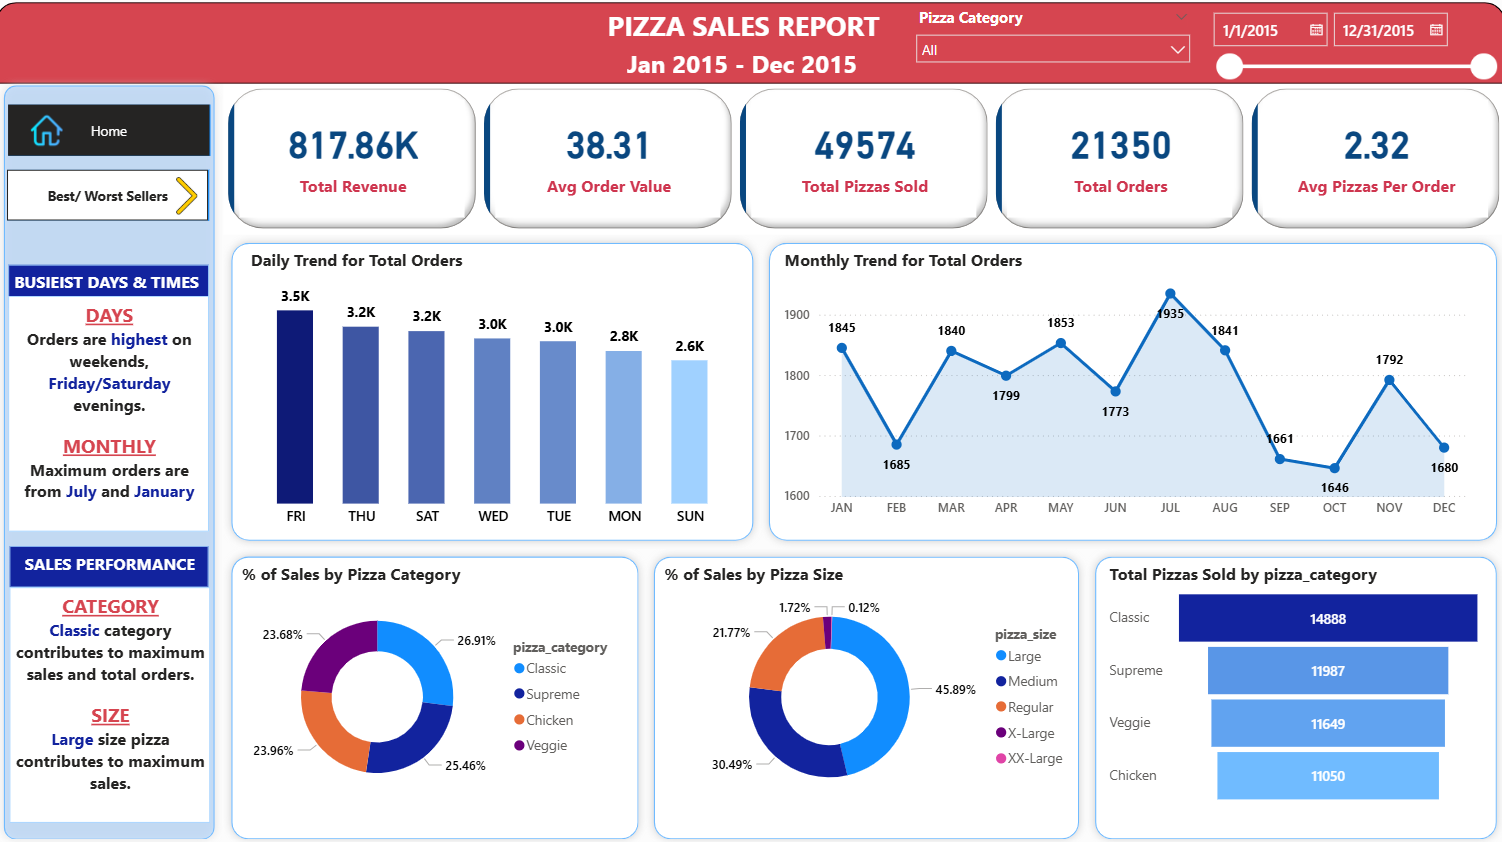

This screenshot's page, from the dashboard's own definition file:
{"tool":"powerbi","page":{"name":"Home ","canvas":[1500,843],"ordinal":0},"visuals":[{"type":"cardVisual","fields":{"Data":["pizza_sales.Total Revenue","pizza_sales.Avg Order Value","pizza_sales.Total Pizzas Sold","pizza_sales.Total Orders","pizza_sales.Avg Pizzas Per Order"]},"box":[237.1,91.3,1263.2,148.5],"z":0},{"type":"shape","box":[13.6,10.9,1486.7,80.4],"z":1000},{"type":"textbox","box":[606.4,10.9,286.2,45],"z":2000},{"type":"textbox","box":[536.9,50.4,423.8,61.3],"z":3000},{"type":"shape","box":[13.6,84.5,223.5,759],"z":4000},{"type":"shape","box":[237.1,239.8,530.1,309.3],"z":5000},{"type":"columnChart","title":"Daily Trend for Total Orders","fields":{"Category":["pizza_sales.Order Day"],"Y":["pizza_sales.Total Orders"]},"box":[260.3,253.5,487.8,283.4],"z":6000},{"type":"shape","box":[767.2,239.8,733.1,309.3],"z":7000},{"type":"areaChart","title":"Monthly Trend for Total Orders ","fields":{"Category":["pizza_sales.Order Month"],"Y":["pizza_sales.Total Orders"]},"box":[784.9,253.5,681.3,273.9],"z":8000},{"type":"shape","box":[237.1,549.1,417,294.3],"z":9000},{"type":"textbox","box":[26.4,269.5,197.3,42.4],"z":10000},{"type":"shape","box":[654.1,549.1,434.7,294.3],"z":11000},{"type":"shape","box":[1088.8,549.1,411.5,294.3],"z":12000},{"type":"donutChart","title":"% of Sales by Pizza Category","fields":{"Category":["pizza_sales.pizza_category"],"Y":["pizza_sales.Total Revenue"]},"box":[250.7,562.8,385.6,243.9],"z":13000},{"type":"donutChart","title":"% of Sales by Pizza Size","fields":{"Y":["pizza_sales.Total Revenue"],"Category":["pizza_sales.pizza_size"]},"box":[667.7,563,415.1,244.2],"z":14000},{"type":"funnel","fields":{"Category":["pizza_sales.pizza_category"],"Y":["pizza_sales.Total Pizzas Sold"]},"box":[1105.1,562.8,377.5,243.9],"z":15000},{"type":"textbox","box":[25.9,299.8,197.6,231.7],"z":16000},{"type":"textbox","box":[27.3,546.4,196.2,40.9],"z":17000},{"type":"textbox","box":[27.7,587.1,197.3,232.2],"z":18000},{"type":"slicer","fields":{"Values":["pizza_sales.pizza_category"]},"box":[910.2,10.9,290.2,80.4],"z":19000},{"type":"slicer","fields":{"Values":["pizza_sales.order_date"]},"box":[1200.5,10.9,299.8,80.4],"z":20000},{"type":"pageNavigator","box":[25.9,111.7,198.9,50.4],"z":21000},{"type":"pageNavigator","box":[24.5,175.8,198.9,50.4],"z":22000},{"type":"image","box":[36.8,117.2,53.1,40.9],"z":23000},{"type":"image","box":[178.5,178.5,46.3,46.3],"z":24000}]}

Visuals, with their boxes in screenshot pixels (x1, y1, x2, y2), scaled from the page's 1500x843 canvas onto the 1502x842 screenshot:
cardVisual - pizza_sales.Total Revenue x pizza_sales.Avg Order Value: select_region(237, 91, 1501, 240)
shape: select_region(14, 11, 1501, 91)
textbox: select_region(607, 11, 894, 56)
textbox: select_region(538, 50, 962, 112)
shape: select_region(14, 84, 237, 841)
shape: select_region(237, 240, 768, 548)
"Daily Trend for Total Orders" columnChart: select_region(261, 253, 749, 536)
shape: select_region(768, 240, 1501, 548)
"Monthly Trend for Total Orders " areaChart: select_region(786, 253, 1468, 527)
shape: select_region(237, 548, 655, 841)
textbox: select_region(26, 269, 224, 312)
shape: select_region(655, 548, 1090, 841)
shape: select_region(1090, 548, 1501, 841)
"% of Sales by Pizza Category" donutChart: select_region(251, 562, 637, 806)
"% of Sales by Pizza Size" donutChart: select_region(669, 562, 1084, 806)
funnel - pizza_sales.pizza_category x pizza_sales.Total Pizzas Sold: select_region(1107, 562, 1485, 806)
textbox: select_region(26, 299, 224, 531)
textbox: select_region(27, 546, 224, 587)
textbox: select_region(28, 586, 225, 818)
slicer - pizza_sales.pizza_category: select_region(911, 11, 1202, 91)
slicer - pizza_sales.order_date: select_region(1202, 11, 1501, 91)
pageNavigator: select_region(26, 112, 225, 162)
pageNavigator: select_region(25, 176, 224, 226)
image: select_region(37, 117, 90, 158)
image: select_region(179, 178, 225, 225)
